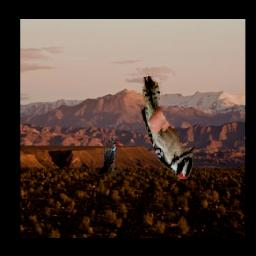Woodpecker: (142, 74, 196, 181), (99, 137, 120, 177)
